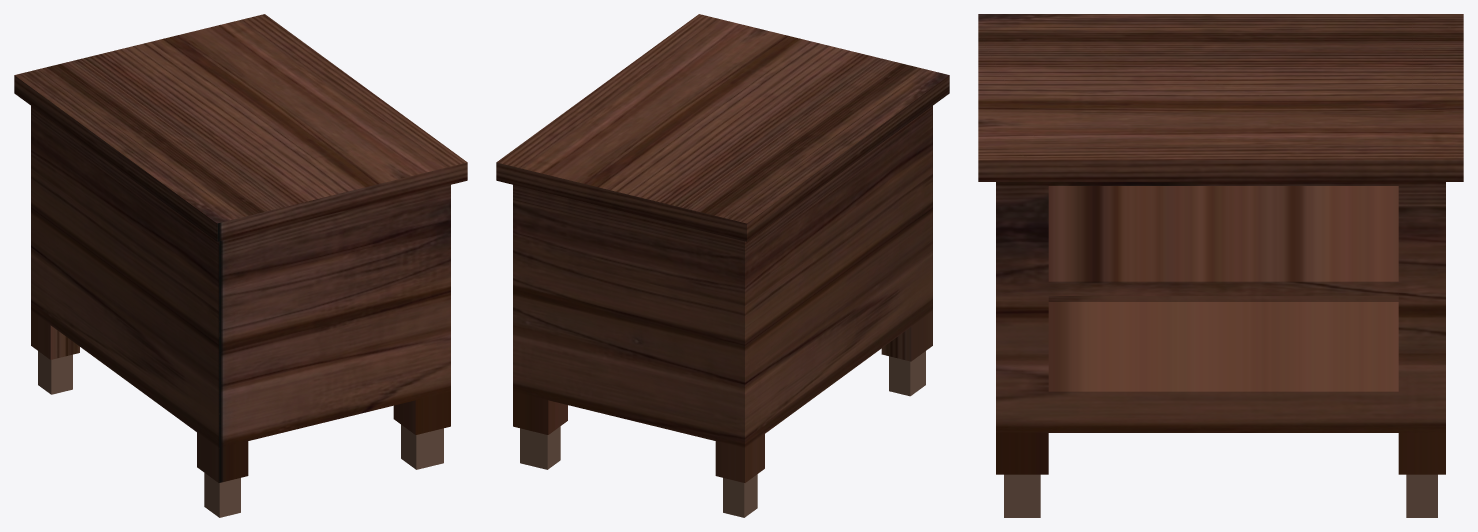
Rendered from Gabinete.fbx.
3 views of the same model, side by side, from view 1: azimuth 30°, elevation 25°; view 2: azimuth 150°, elevation 25°; view 3: azimuth 270°, elevation 25° (orthographic). The views are drawn at different scales.
Visible parts, largest first — view 1: cabinet; view 2: cabinet; view 3: cabinet.
Boxes of the visible parts, x1=… form: cabinet: x1=14, y1=14, x2=467, y2=517; cabinet: x1=496, y1=14, x2=949, y2=517; cabinet: x1=978, y1=14, x2=1463, y2=517.
Bounding box in the file's own units: 450 × 524 × 631.
2 materials, 1 textured.
